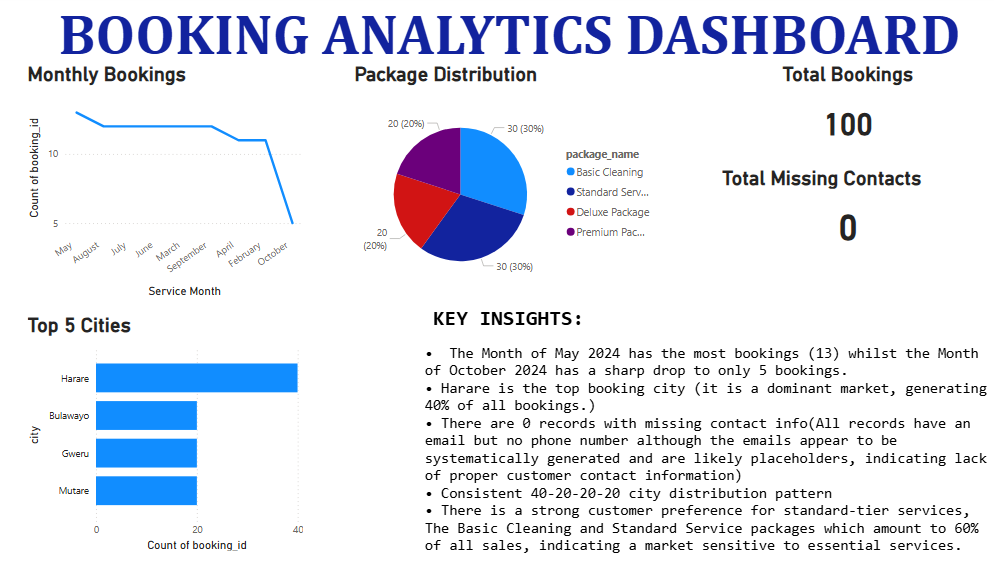

The dashboard page shown, as its layout file describes it:
{"tool":"powerbi","page":{"name":"Page 1","canvas":[1280,720],"ordinal":0},"visuals":[{"type":"textbox","box":[9.4,0,1269.9,102],"z":0},{"type":"card","title":"Total Bookings","fields":{"Values":["CountNonNull(data_set_for_interns.booking_id)"]},"box":[952.4,102,326.9,115.3],"z":1000},{"type":"lineChart","title":"Monthly Bookings","fields":{"Category":["data_set_for_interns.Service Month"],"Y":["CountNonNull(data_set_for_interns.booking_id)"]},"box":[32.1,102,357.2,300.5],"z":2000},{"type":"clusteredBarChart","title":"Top 5 Cities","fields":{"Category":["data_set_for_interns.city"],"Y":["CountNonNull(data_set_for_interns.booking_id)"]},"box":[32.1,400.6,357.2,304.3],"z":3000},{"type":"pieChart","title":"Package Distribution","fields":{"Category":["data_set_for_interns.package_name"],"Y":["CountNonNull(data_set_for_interns.booking_id)"]},"box":[447.9,102,391.2,300.5],"z":4000},{"type":"textbox","box":[532.9,385.5,746.5,334.5],"z":5000},{"type":"card","title":"Total Missing Contacts","fields":{"Values":["data_set_for_interns.Missing Contact info"]},"box":[952.4,217.3,326.9,113.4],"z":6000}]}

Visuals, with their boxes in screenshot pixels (x1, y1, x2, y2), scaled from the page's 1280x720 canvas onto the 994x565 screenshot:
textbox: 7,0,993,80
"Total Bookings" card: 740,80,993,171
"Monthly Bookings" lineChart: 25,80,302,316
"Top 5 Cities" clusteredBarChart: 25,314,302,553
"Package Distribution" pieChart: 348,80,652,316
textbox: 414,303,993,564
"Total Missing Contacts" card: 740,171,993,260
